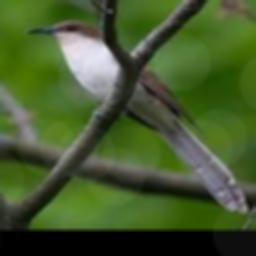Cuckoo: (26, 20, 247, 213)
